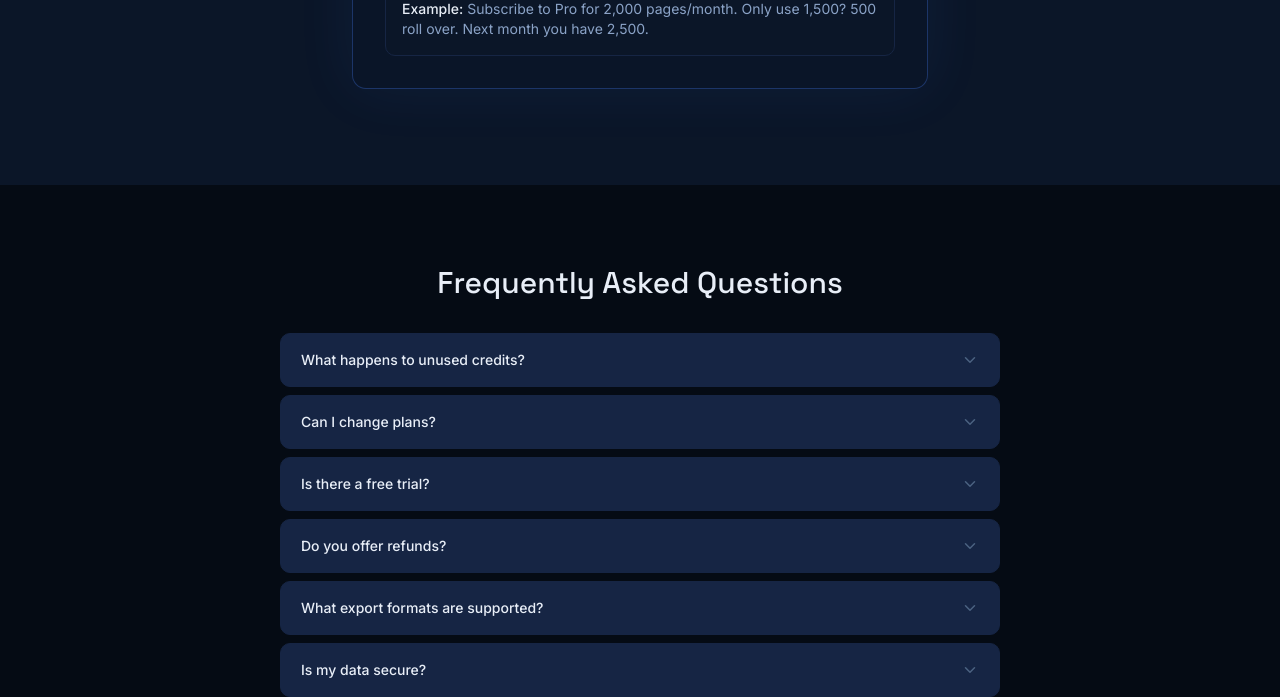
Scenario: PricingPage › expands FAQ accordion on click
The image size is (1280, 697).
(page scrolled)
Click the button "What happens to unused credits?" at (413, 360), box [281, 334, 999, 386]
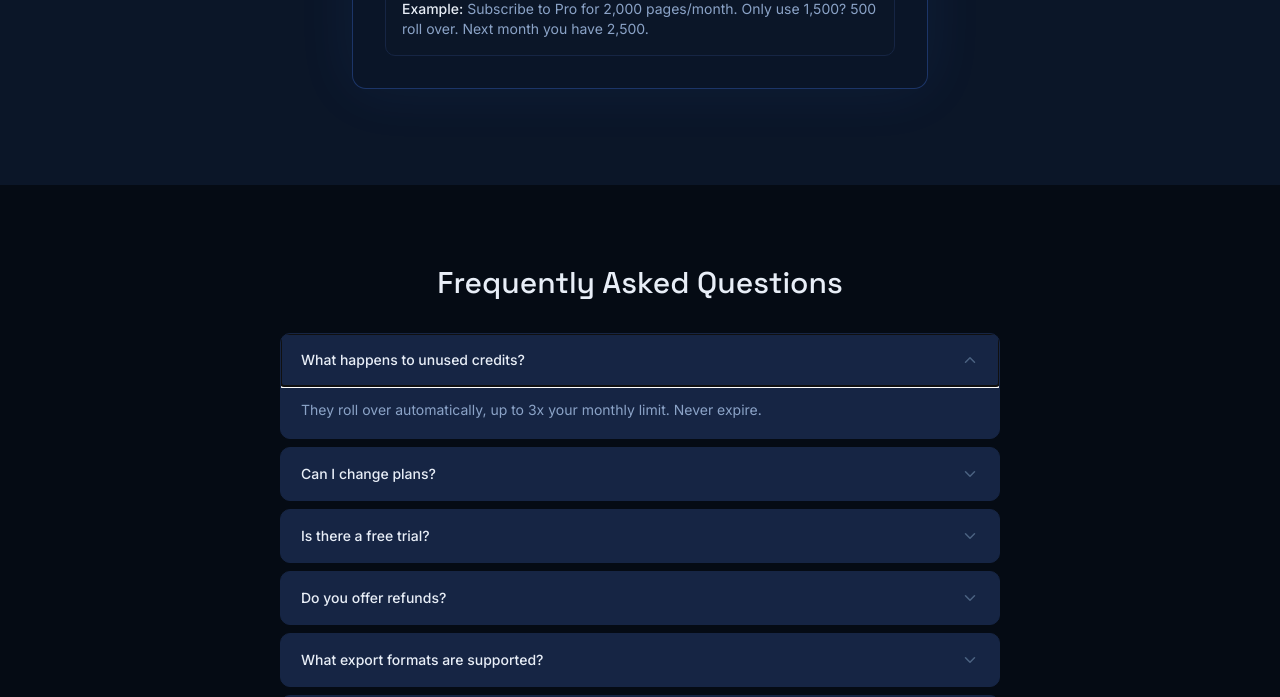
Expected: the text "They roll over automatically" is shown, [301, 401, 762, 418]
